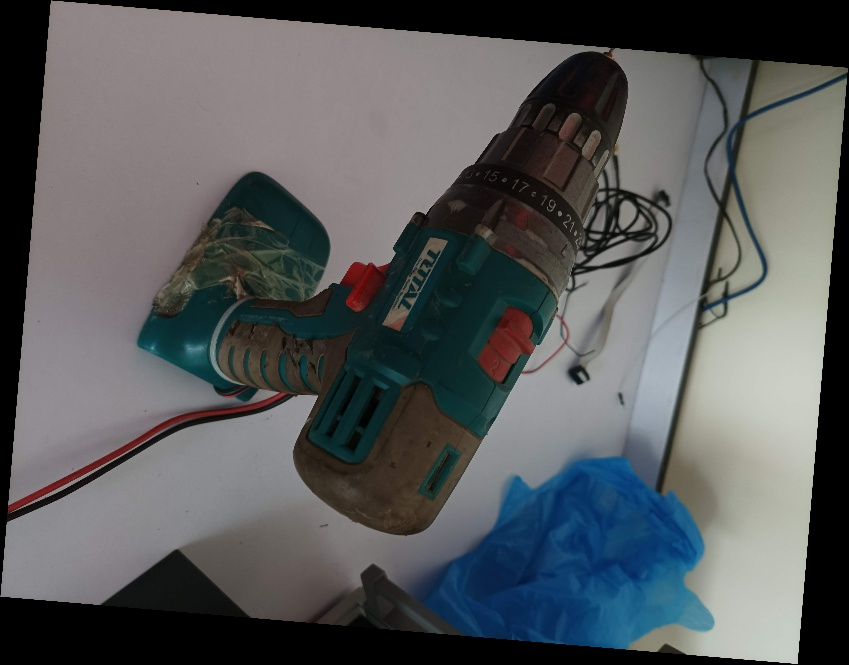driller: (133, 43, 632, 538)
